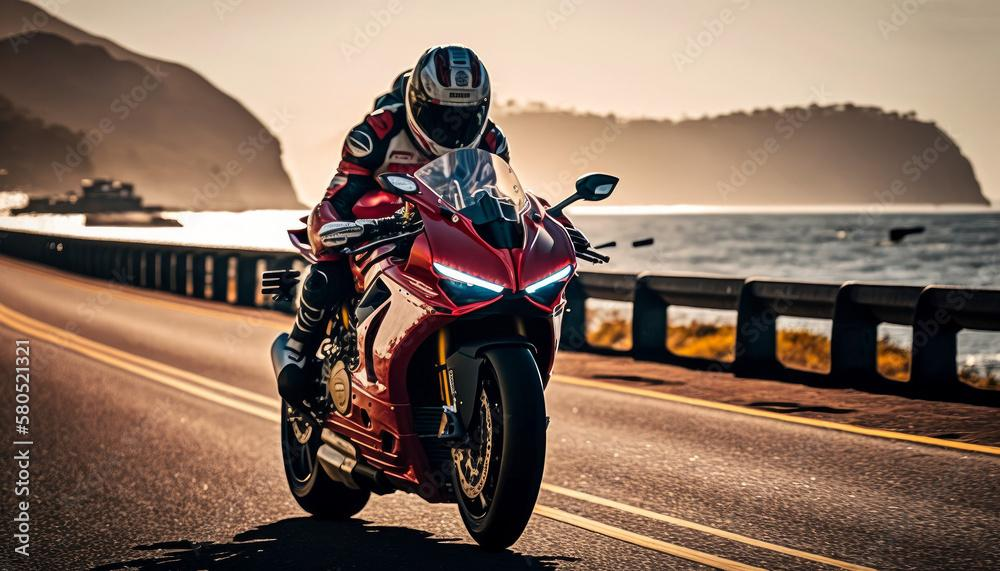helmet: (404, 42, 492, 165)
